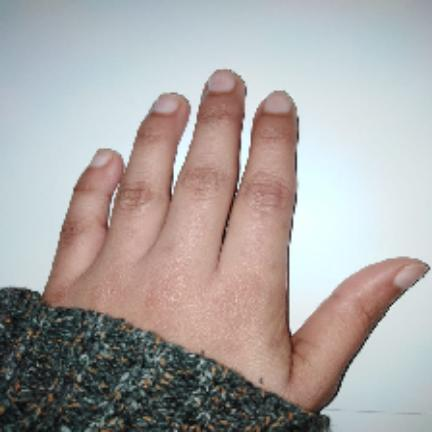Nail: (393, 262, 426, 290), (263, 91, 293, 113), (208, 70, 236, 93), (151, 94, 179, 114), (89, 149, 114, 168)
